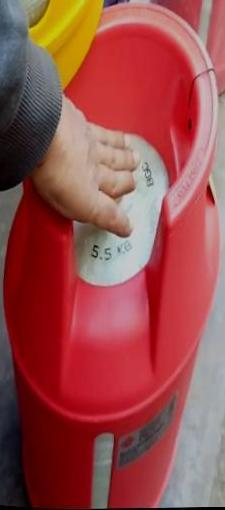cylinder: (1, 1, 225, 510)
